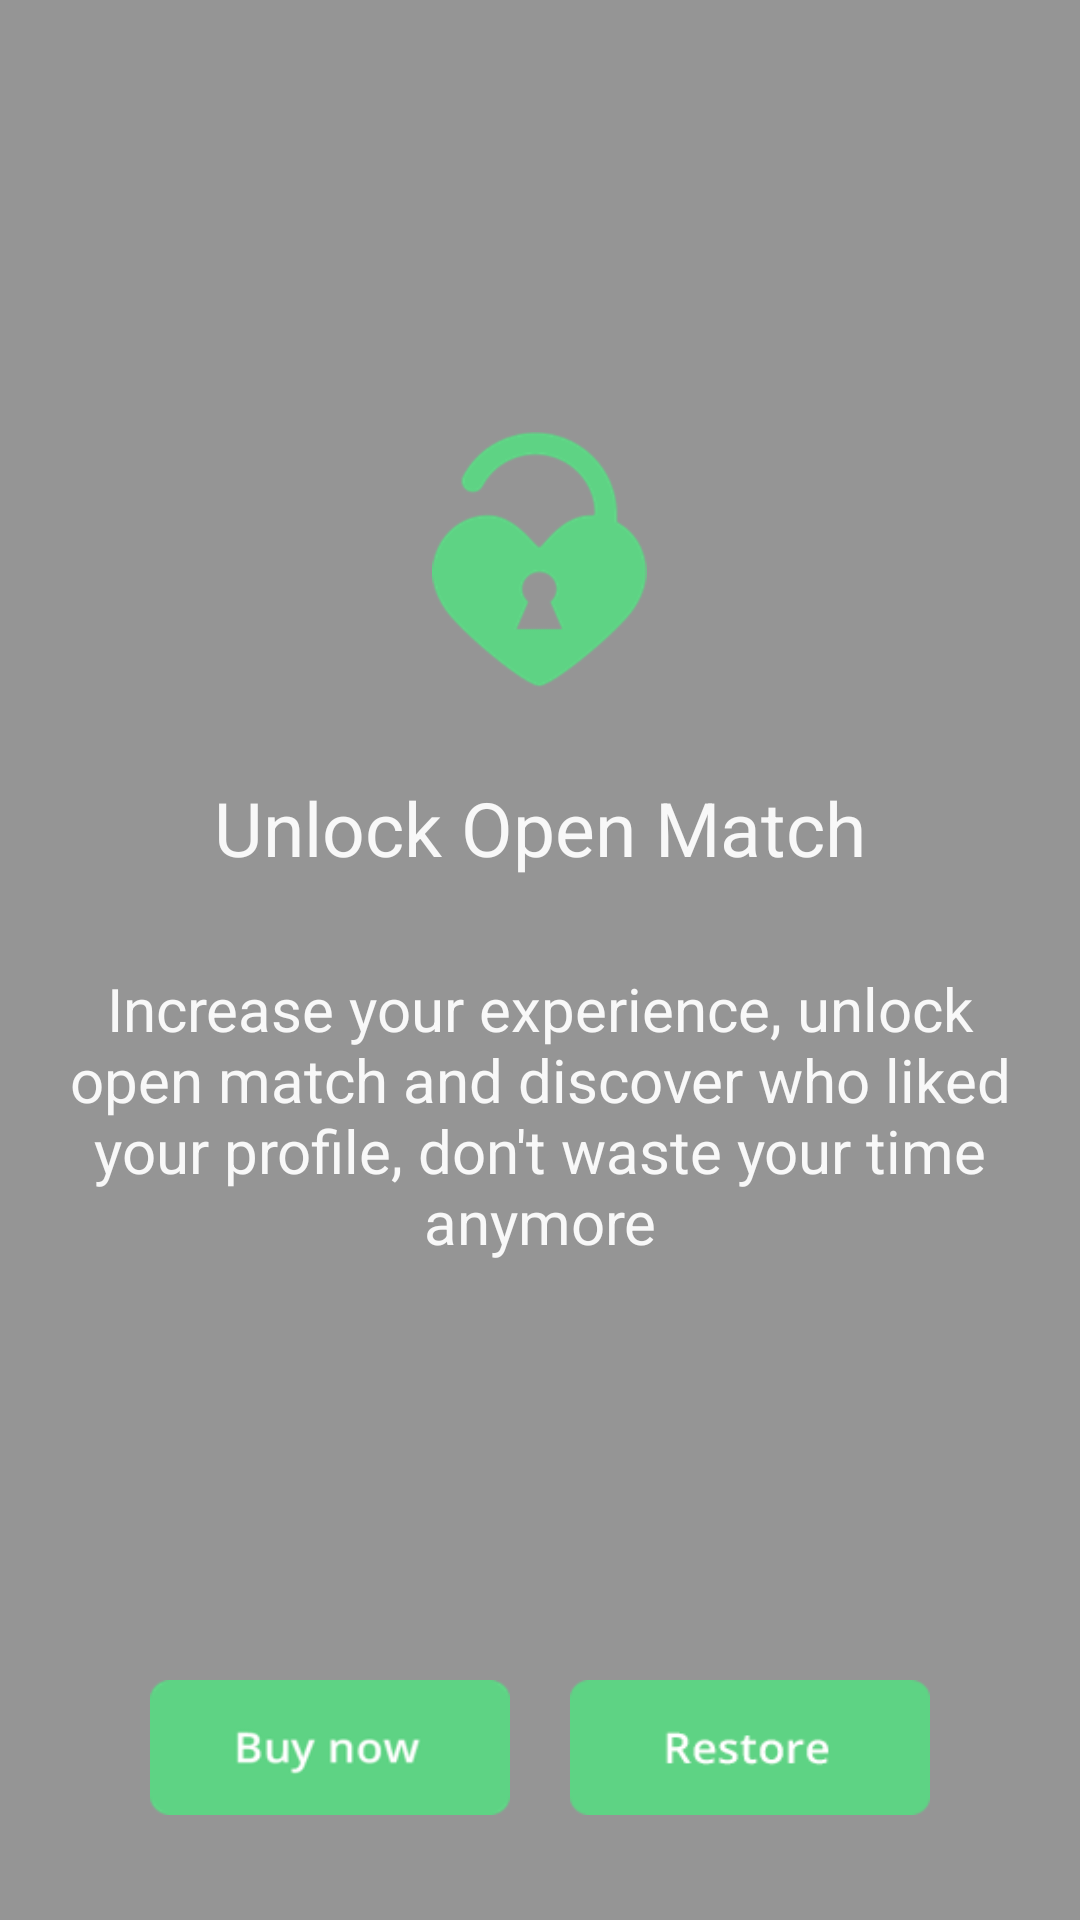

Screen size 1080*1920. Icon name, then its box in pixels as (x1, y1, x2, y2):
unlockgreen: (432, 432, 647, 686)
